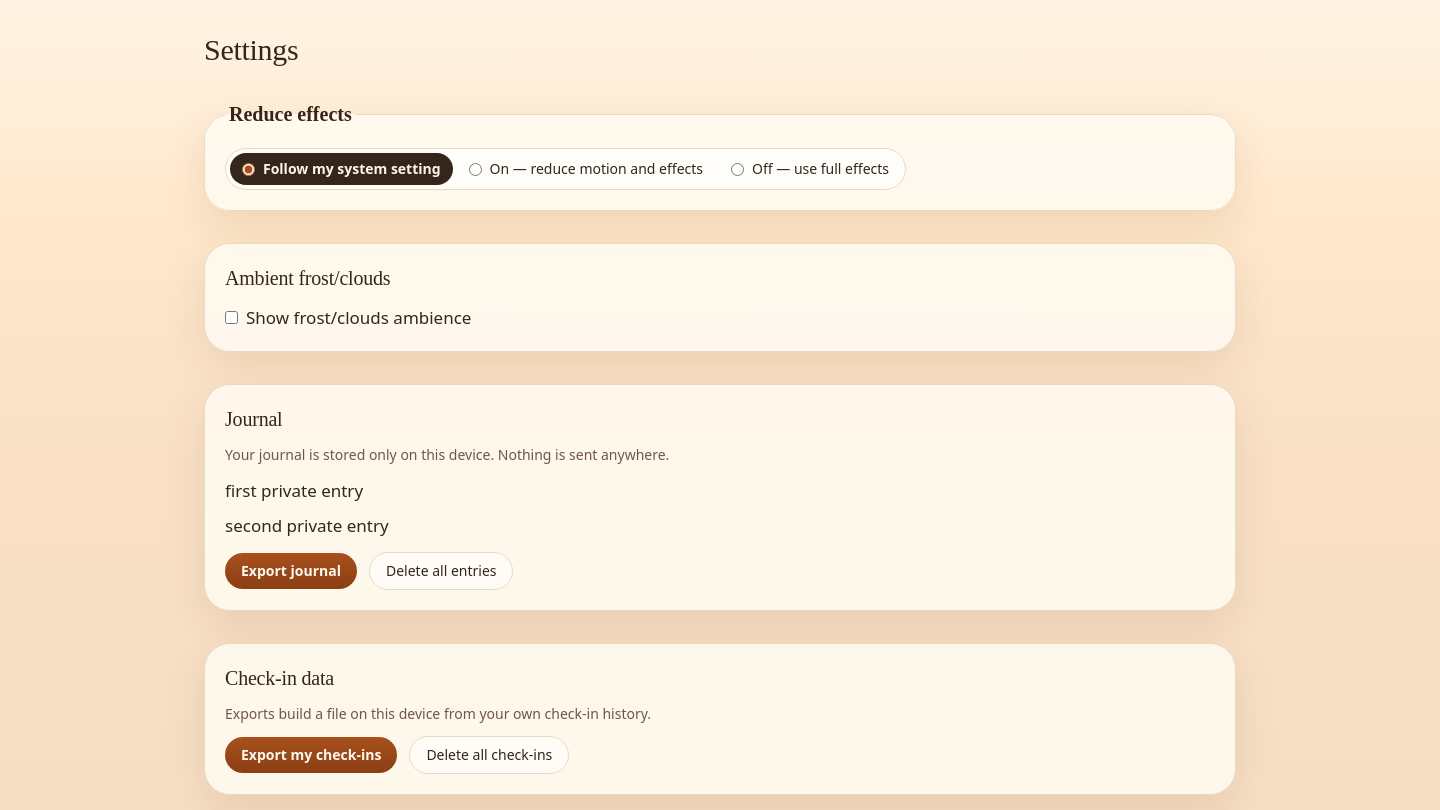
Test: SettingsPage — journal › cancel on the delete-all confirm does nothing
Click the button "Delete all entries": (441, 571) [369,552,514,590]
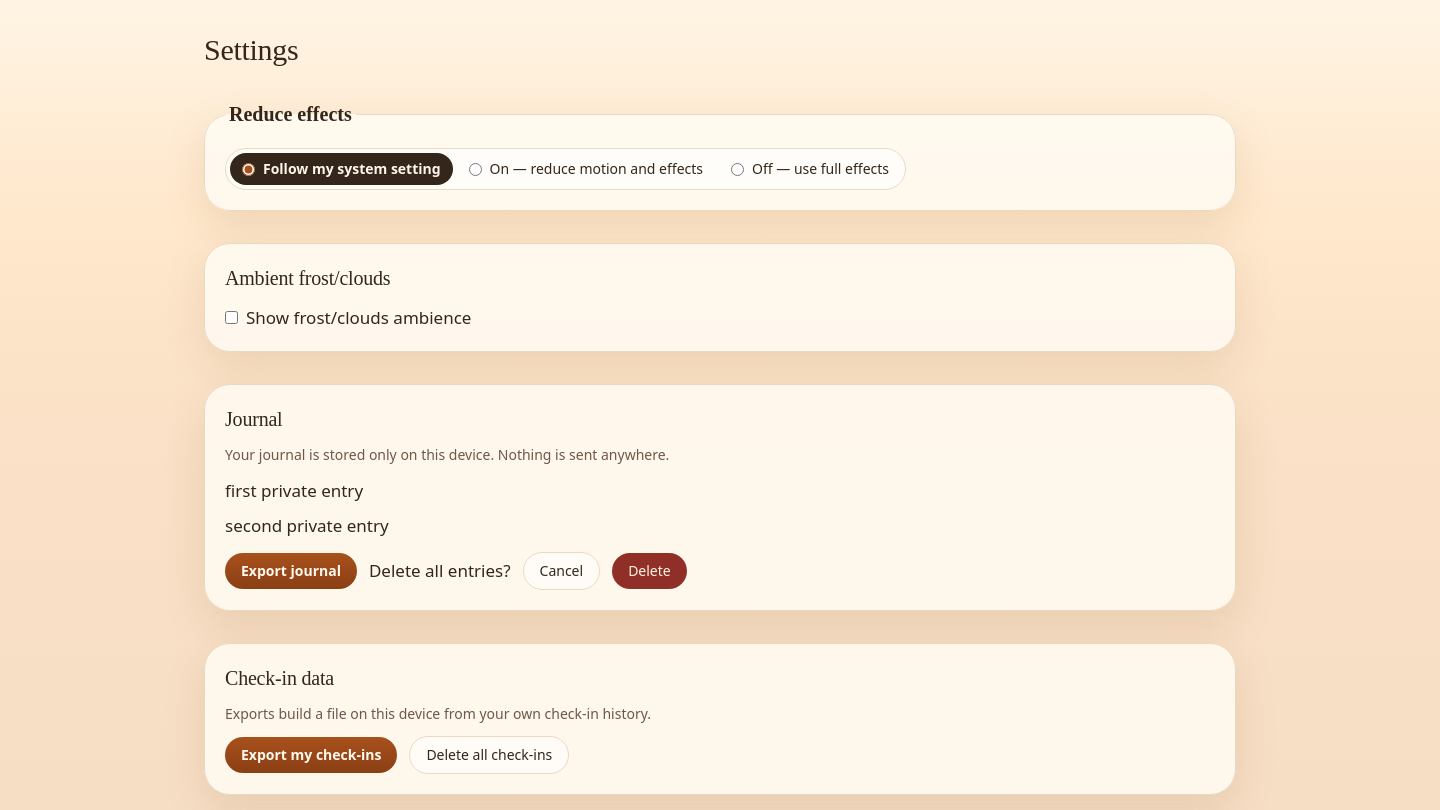
Expected: the text "Delete all entries?" is shown, [369,557,511,584]
Click the button "Cancel": (561, 571) [522,552,600,590]
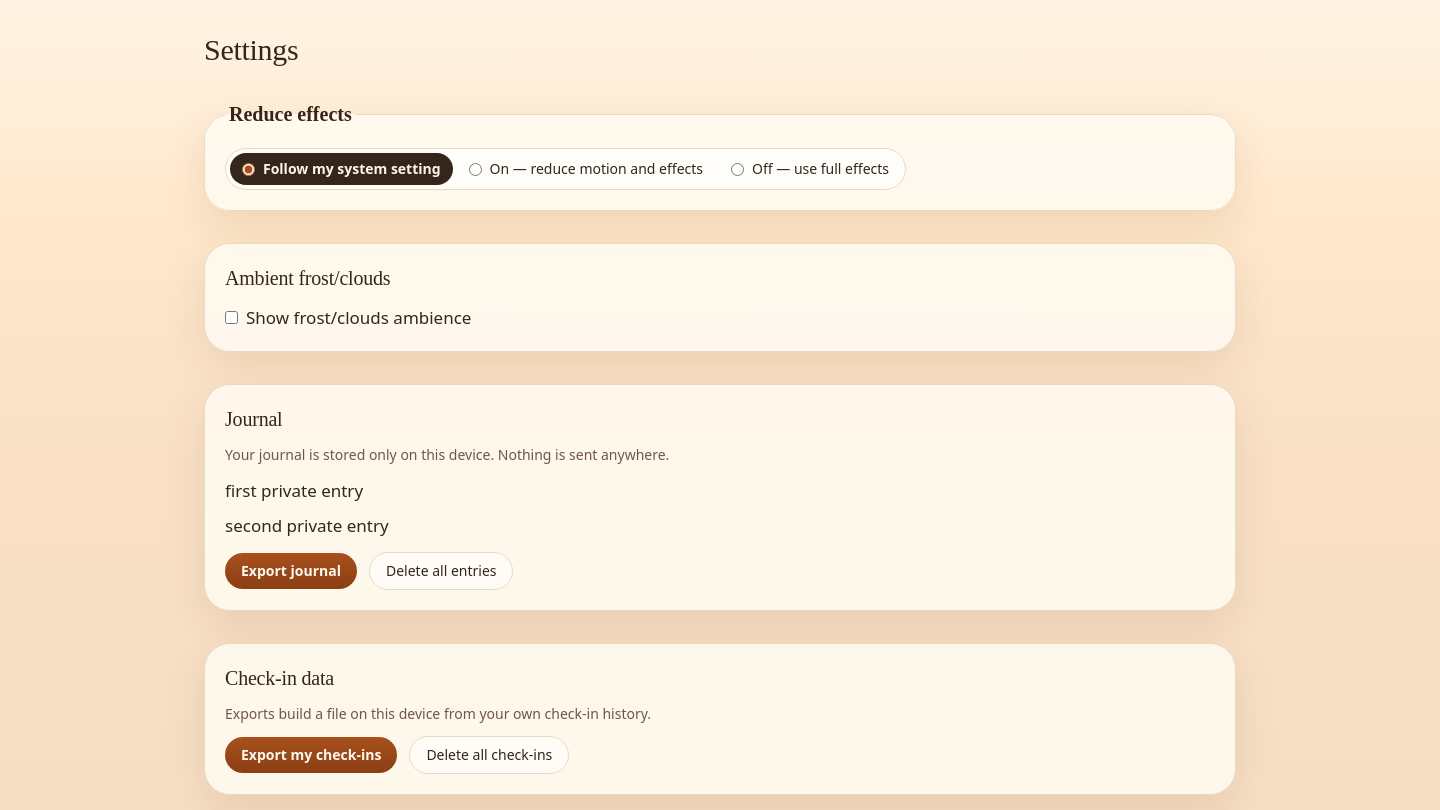
Expected: the list item "first private entry" is shown, [225,479,363,502]
Expected: the text "Delete all entries?" is gone
